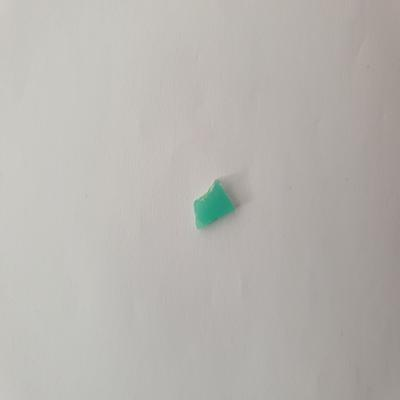plastic: (189, 174, 243, 231)
